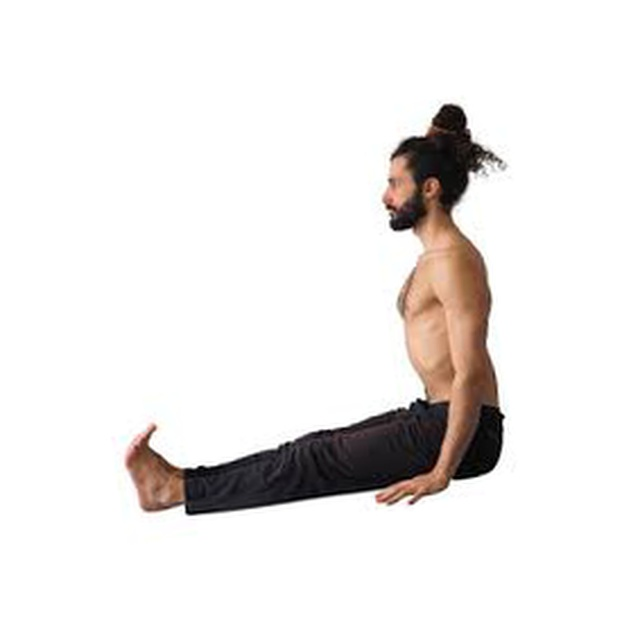Staff_Pose: (125, 104, 508, 515)
